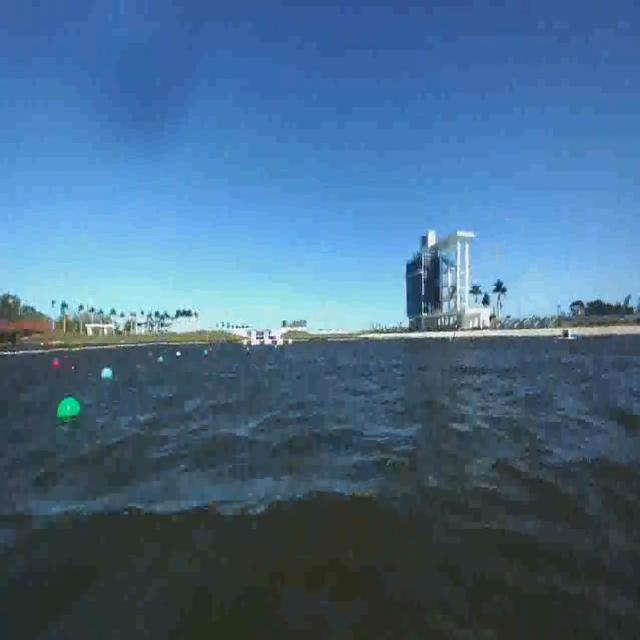green-buoy: (59, 399, 81, 424), (99, 366, 113, 380)
